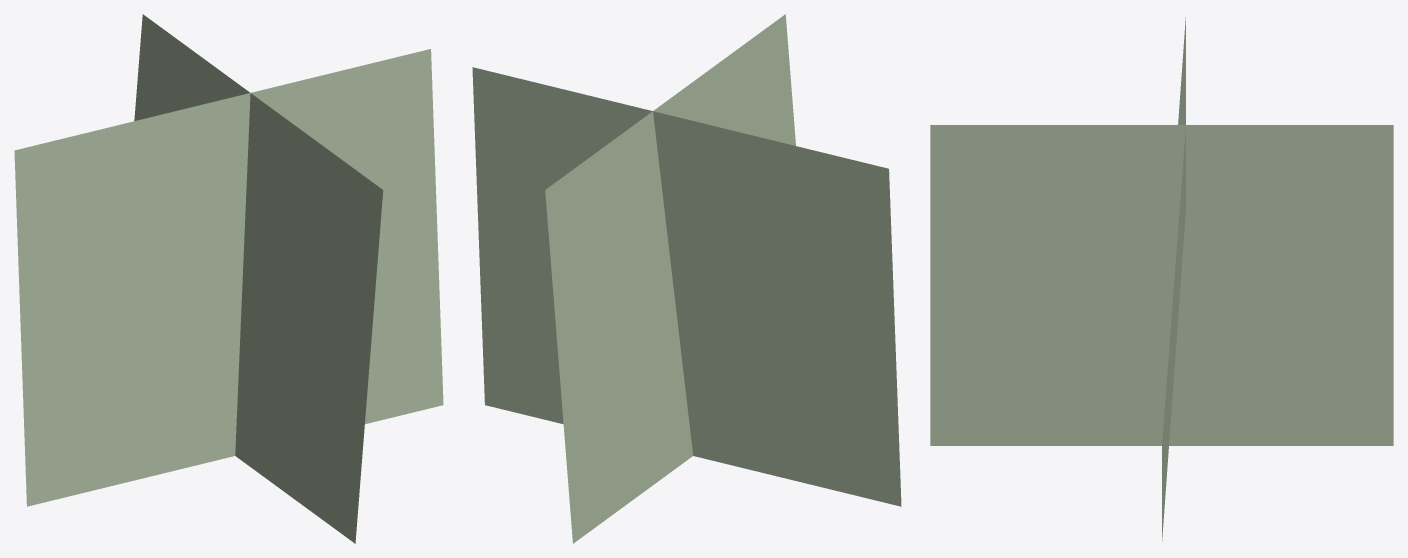
The model's file is grass-tuft-green-v1.lod2.glb.
3 renders of one model, left to right at view 1: azimuth 30°, elevation 25°; view 2: azimuth 150°, elevation 25°; view 3: azimuth 270°, elevation 25°, orthographic. The views are drawn at different scales.
Visible parts, largest first — view 1: grass-tuft-green-v1.lod2; view 2: grass-tuft-green-v1.lod2; view 3: grass-tuft-green-v1.lod2.
Boxes of the visible parts, x1,y1,x2,y2 form: grass-tuft-green-v1.lod2: [14, 14, 443, 543]; grass-tuft-green-v1.lod2: [472, 14, 901, 543]; grass-tuft-green-v1.lod2: [930, 17, 1393, 541].
Bounding box in the file's own units: 2.7 × 2.15 × 2.7.
